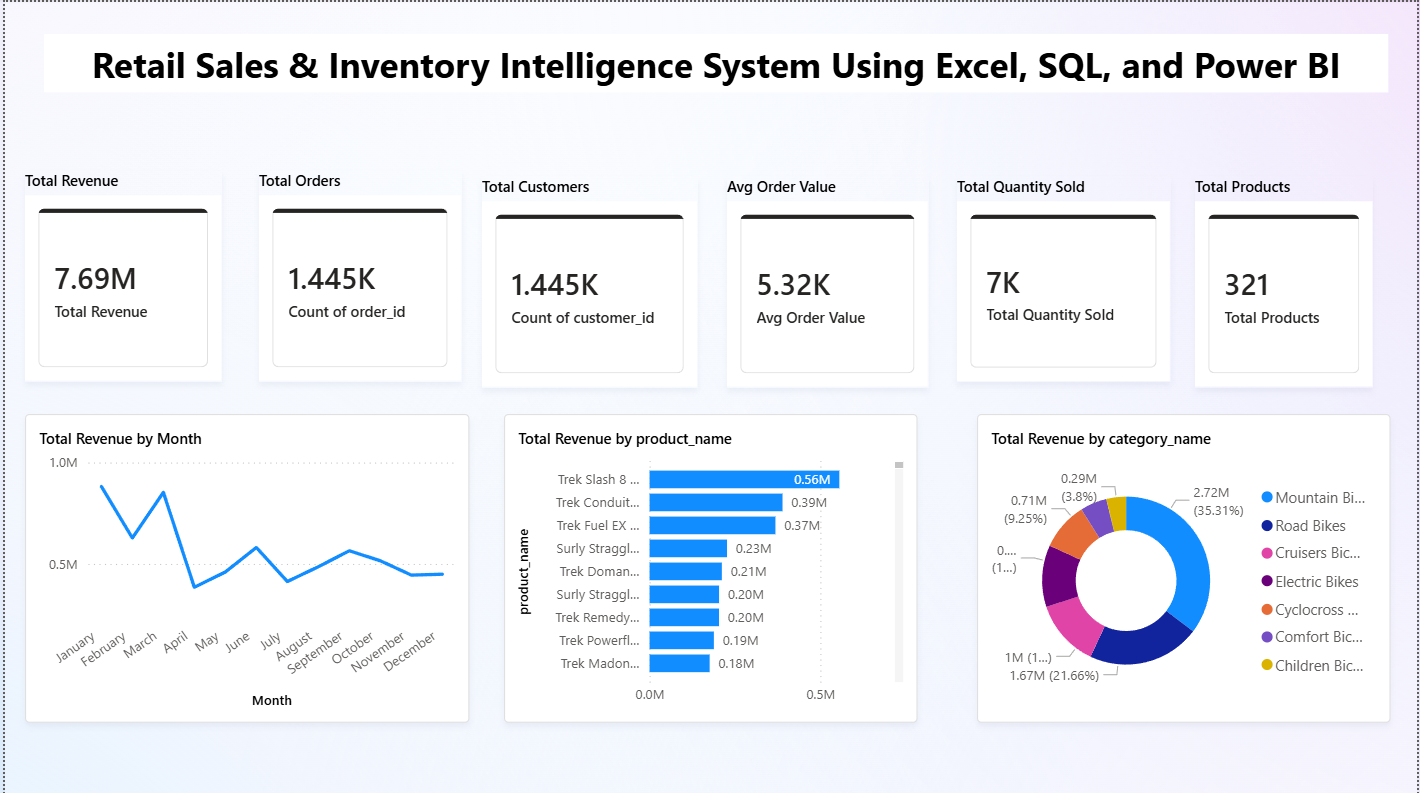

The dashboard page shown, as its layout file describes it:
{"tool":"powerbi","page":{"name":"Page 1","canvas":[1280,720],"ordinal":0},"visuals":[{"type":"cardVisual","title":"Total Revenue","fields":{"Data":["retail brands.Total Revenue"]},"box":[18.5,153.7,179,190.6],"z":0},{"type":"cardVisual","title":"Total Orders","fields":{"Data":["Count(retail orders.order_id)"]},"box":[230.5,153.7,183.8,190.6],"z":1000},{"type":"cardVisual","title":"Total Customers","fields":{"Data":["Count(retail customers.customer_id)"]},"box":[432.8,158.5,195.5,190.6],"z":2000},{"type":"lineChart","fields":{"Y":["retail brands.Total Revenue"],"Category":["retail orders.order_date.Variation.Date Hierarchy.Month"]},"box":[18.5,373.5,402.7,280.1],"z":3000},{"type":"clusteredBarChart","fields":{"Category":["retail products.product_name"],"Y":["retail brands.Total Revenue"]},"box":[452.3,373.5,375.4,280.1],"z":4000},{"type":"donutChart","fields":{"Category":["retail categories.category_name"],"Y":["retail brands.Total Revenue"]},"box":[881.2,373.5,375.4,280.1],"z":5000},{"type":"cardVisual","title":"Avg Order Value","fields":{"Data":["retail brands.Avg Order Value"]},"box":[654.6,158.5,182.9,190.6],"z":6000},{"type":"cardVisual","title":"Total Quantity Sold","fields":{"Data":["retail brands.Total Quantity Sold"]},"box":[863.7,158.5,193.6,185.8],"z":7000},{"type":"cardVisual","title":"Total Products","fields":{"Data":["retail brands.Total Products"]},"box":[1078.7,158.5,161.5,190.6],"z":8000},{"type":"textbox","title":"Excel, SQL, and Power BI","box":[35,29.2,1219,52.5],"z":9000}]}

Visuals, with their boxes in screenshot pixels (x1, y1, x2, y2), scaled from the page's 1280x720 canvas onto the 1420x793 screenshot:
"Total Revenue" cardVisual: bbox=[21, 169, 219, 379]
"Total Orders" cardVisual: bbox=[256, 169, 460, 379]
"Total Customers" cardVisual: bbox=[480, 175, 697, 384]
lineChart - retail brands.Total Revenue x retail orders.order_date.Variation.Date Hierarchy.Month: bbox=[21, 411, 467, 720]
clusteredBarChart - retail products.product_name x retail brands.Total Revenue: bbox=[502, 411, 918, 720]
donutChart - retail categories.category_name x retail brands.Total Revenue: bbox=[978, 411, 1394, 720]
"Avg Order Value" cardVisual: bbox=[726, 175, 929, 384]
"Total Quantity Sold" cardVisual: bbox=[958, 175, 1173, 379]
"Total Products" cardVisual: bbox=[1197, 175, 1376, 384]
"Excel, SQL, and Power BI" textbox: bbox=[39, 32, 1391, 90]
